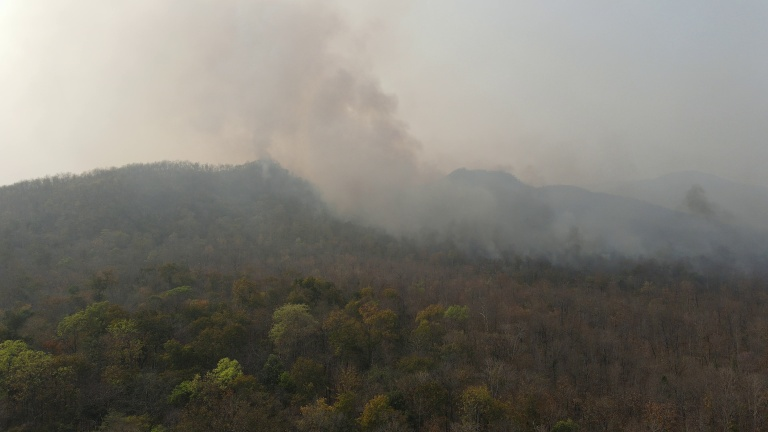smoke: (152, 1, 587, 257), (661, 182, 766, 264), (254, 115, 277, 184)
